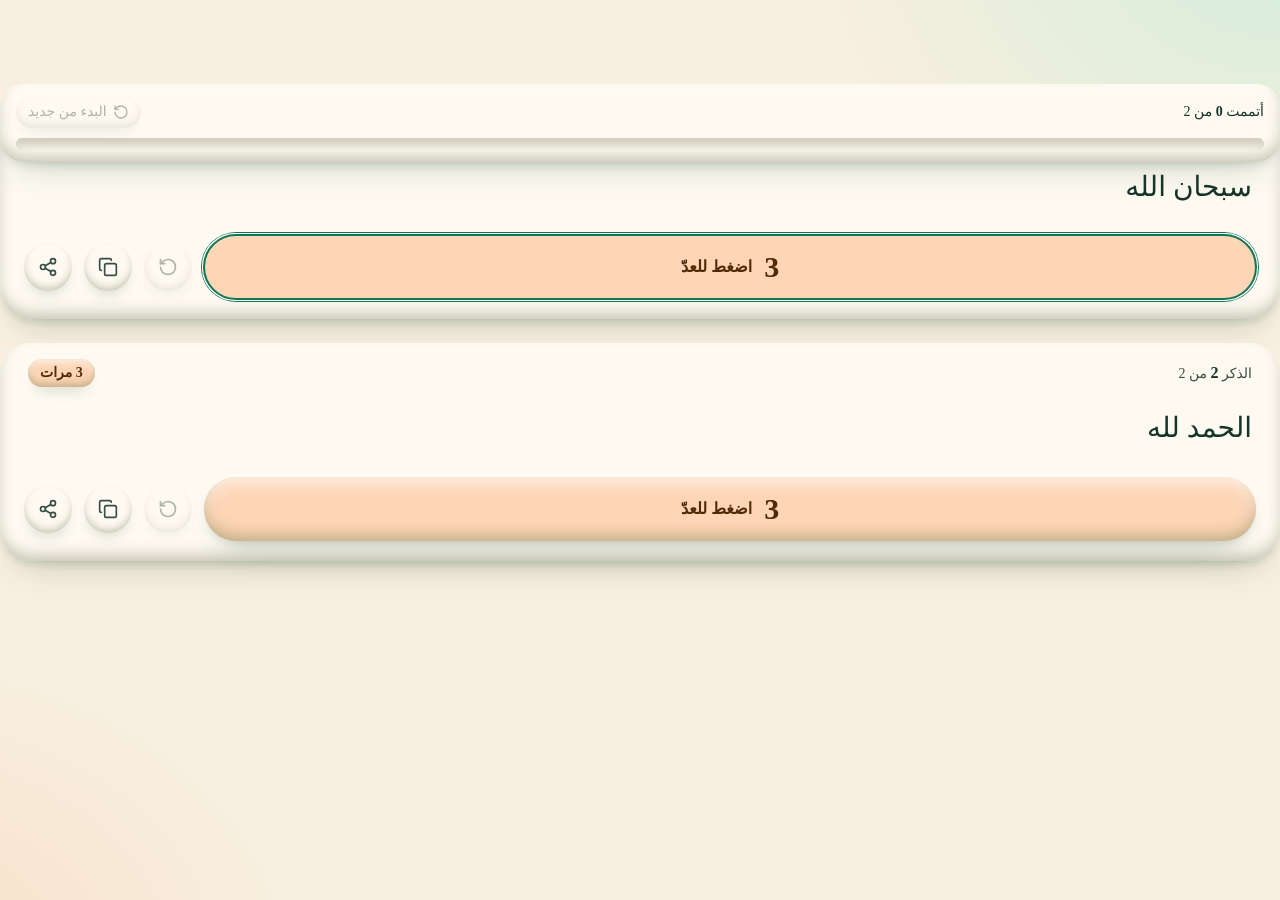
Test case: ZekrList counter accessibility › keeps focus on reset instead of disabling it under the cursor
Click the button "3 اضغط للعدّ" below "سبحان الله". click: click(730, 267)
box: [204, 235, 1256, 299]
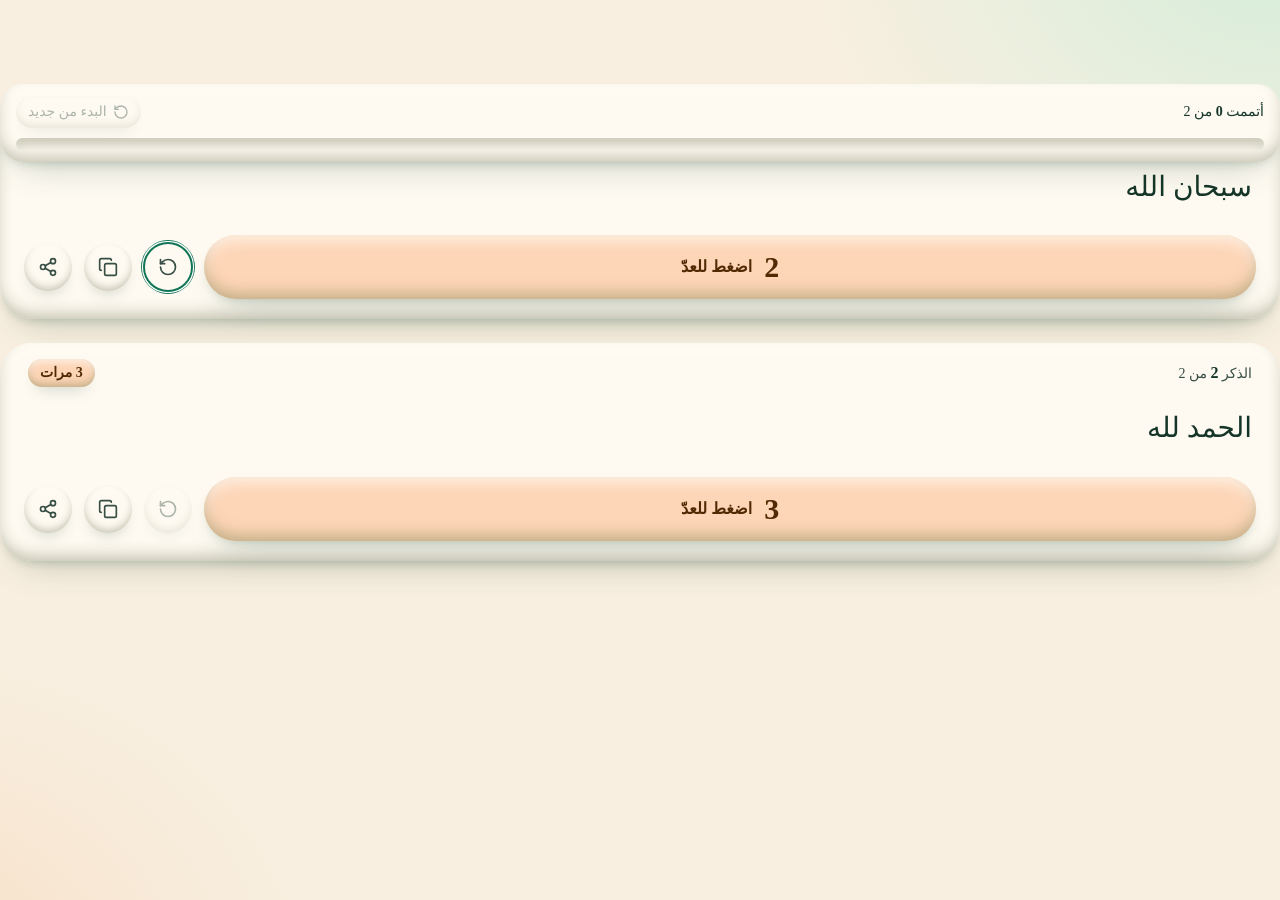
Click the 1st button named "إعادة العدّ". click: click(168, 267)
box: [144, 243, 192, 291]
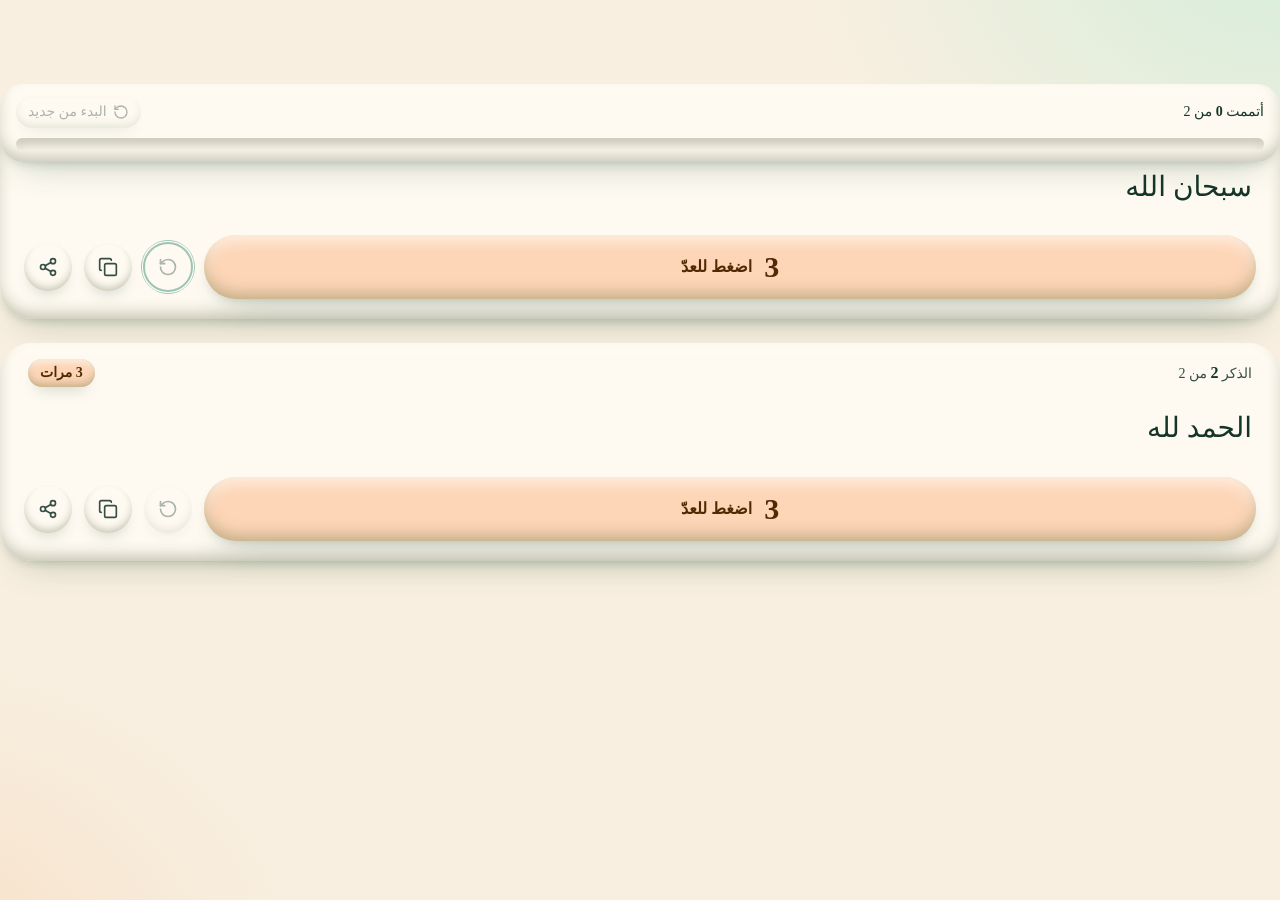
Now the 1st button named "إعادة العدّ" is enabled, box [144, 243, 192, 291]
